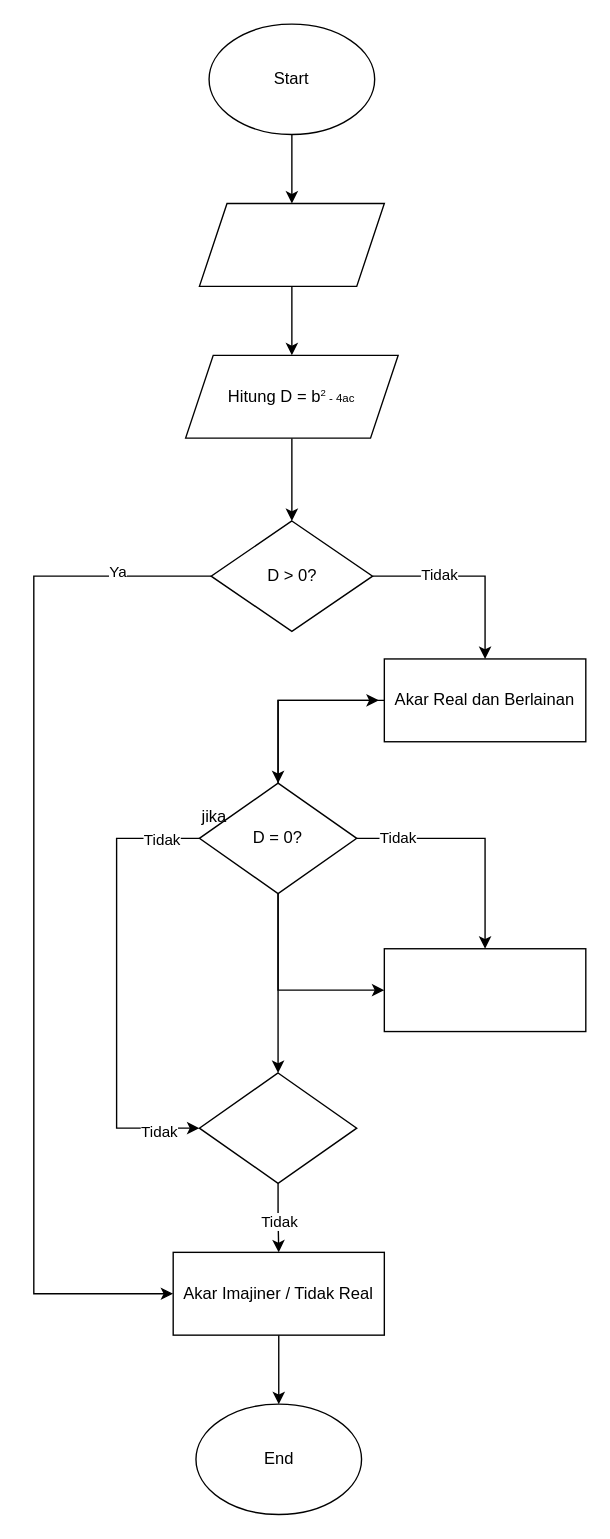
This 610x1539 diagram has some shape labels left out. The shapes that lost their labels are listed below. From the top down, each one's centre as x and y in pixels, then its label:
At point 291,244: "Input a, b, c".
At point 484,989: "Akar Real dan Kembar".
At point 277,1127: "D < 0?".
